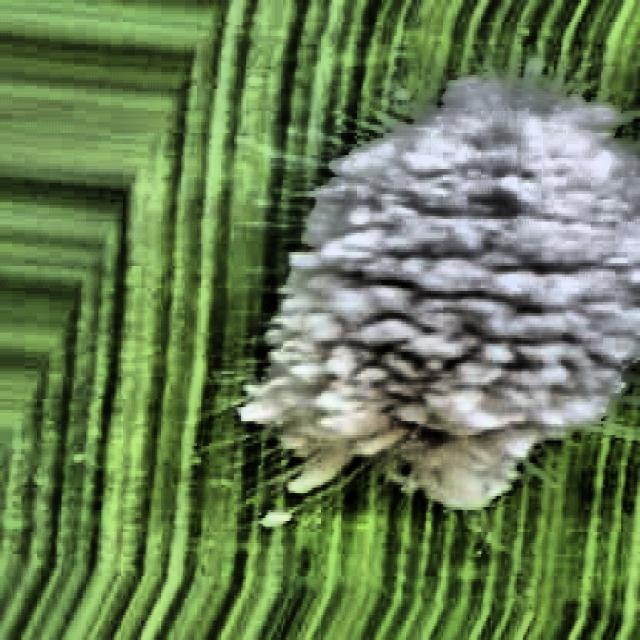Mealy-bug: (215, 23, 638, 624)
